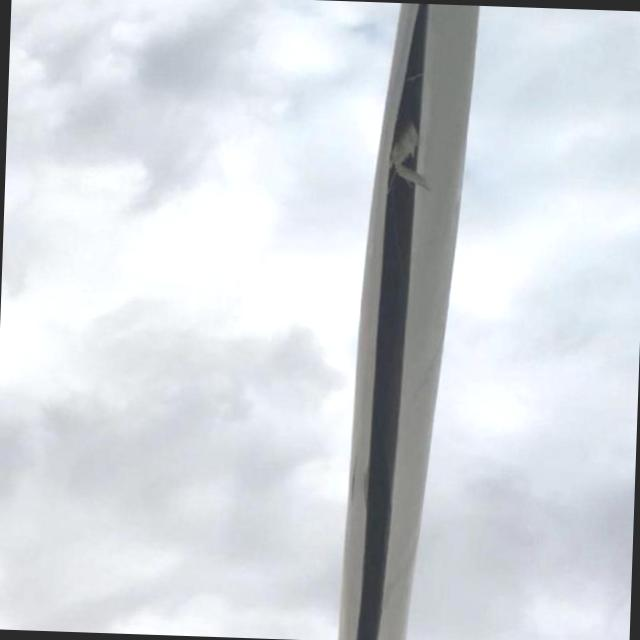crack: (356, 5, 431, 640)
